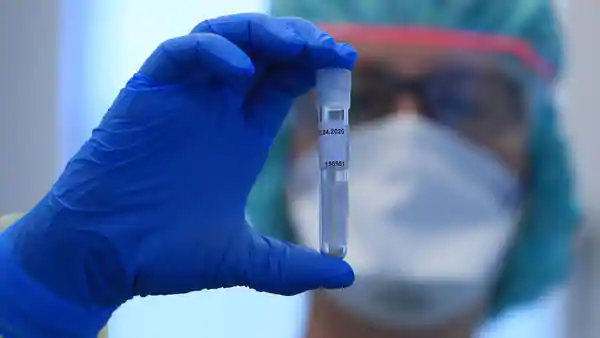Gloves: (20, 13, 358, 312)
